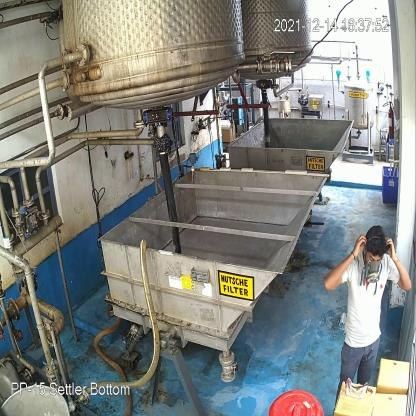mask: (361, 252, 382, 285)
no_glove: (326, 228, 368, 287), (388, 235, 412, 294)
no_goggles: (363, 250, 383, 266)
